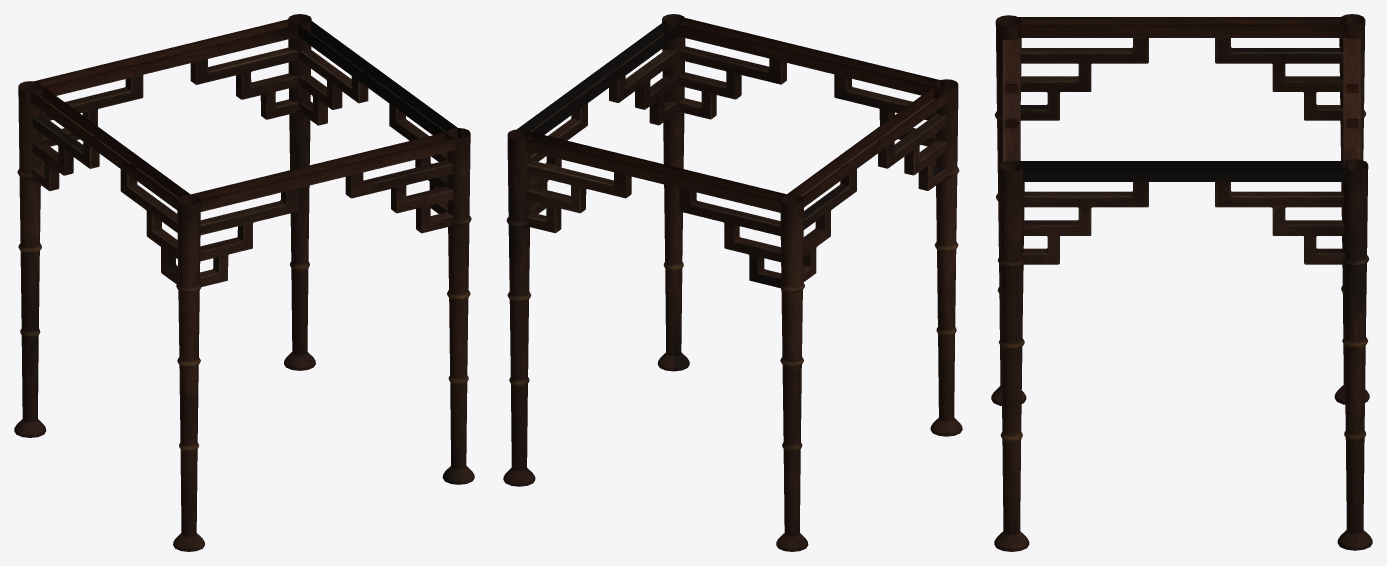
Rendered from TraditionalKoreanHouse_TableLeg.fbx.
3 views of the same model, side by side, from view 1: azimuth 30°, elevation 25°; view 2: azimuth 150°, elevation 25°; view 3: azimuth 270°, elevation 25° (orthographic). The views are drawn at different scales.
Visible parts, largest first — view 1: TraditionalKoreanHouse_TableLeg; view 2: TraditionalKoreanHouse_TableLeg; view 3: TraditionalKoreanHouse_TableLeg.
Part boxes in pixels (box(x1,y1,x2,y2)): TraditionalKoreanHouse_TableLeg: box(14, 14, 474, 551); TraditionalKoreanHouse_TableLeg: box(503, 14, 962, 551); TraditionalKoreanHouse_TableLeg: box(991, 14, 1372, 551).
Size of the model in its own units: 63.69 by 69.85 by 63.69.
